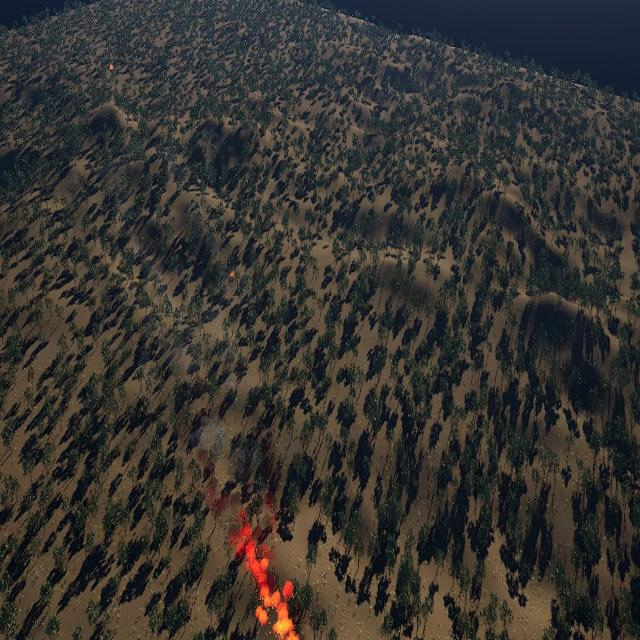fire: (237, 519, 299, 637), (230, 270, 235, 280), (109, 63, 114, 71)
smoke: (196, 413, 280, 542)
